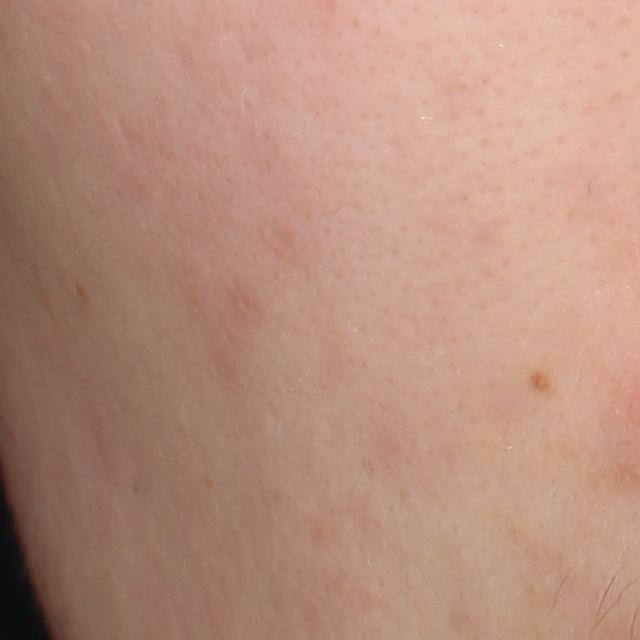nevus: (530, 369, 551, 392)
